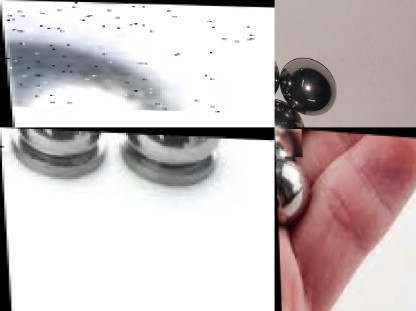ironball: (0, 0, 258, 112), (117, 132, 233, 173), (276, 49, 332, 121), (17, 128, 111, 166), (275, 156, 315, 235), (274, 127, 302, 157), (0, 127, 7, 151)
